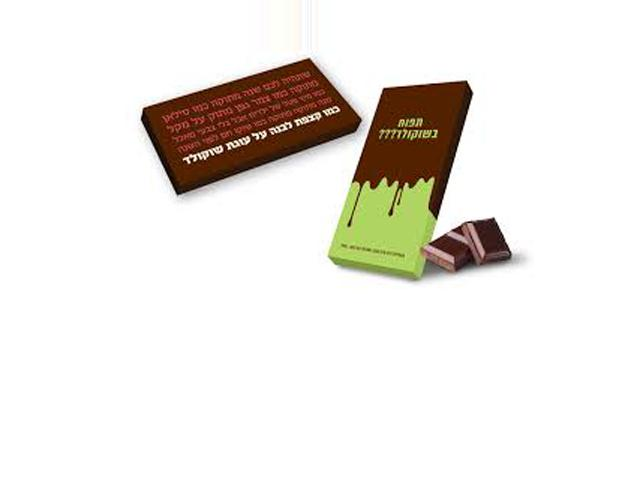chocolate: (337, 76, 456, 286)
